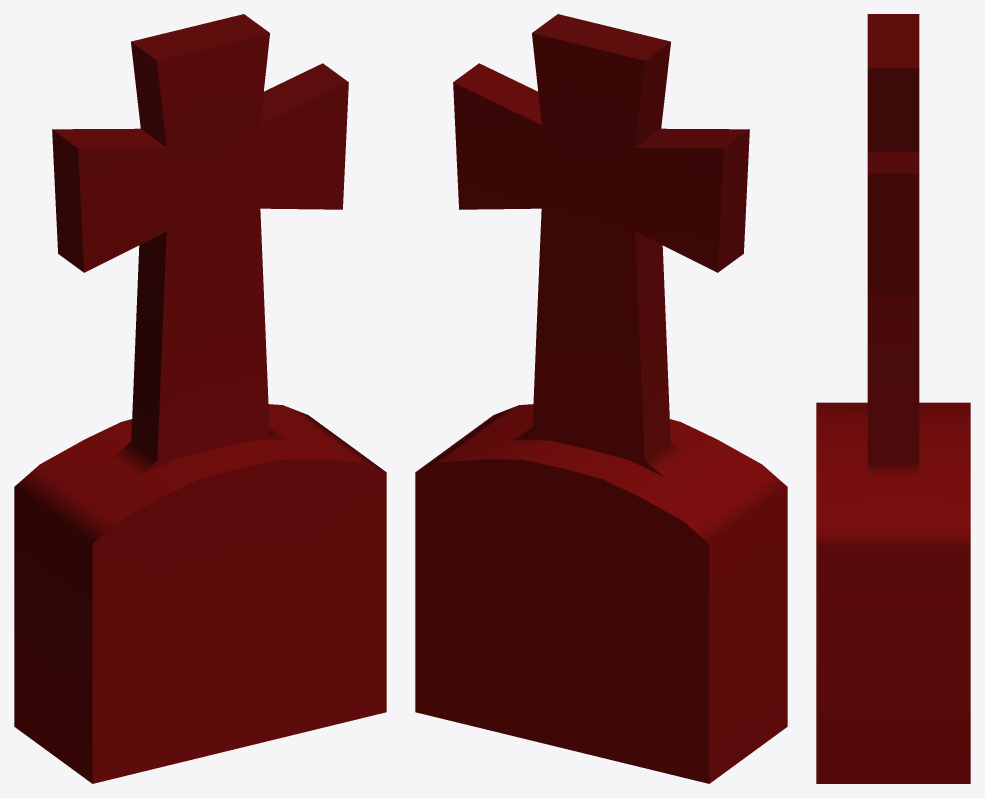
Rendered from geology-carvedstone-gravestone_v5.fbx.
3 views of the same model, side by side, from view 1: azimuth 30°, elevation 25°; view 2: azimuth 150°, elevation 25°; view 3: azimuth 270°, elevation 25° (orthographic).
Visible parts, largest first — view 1: Gravestone_v5; view 2: Gravestone_v5; view 3: Gravestone_v5.
Boxes of the visible parts, box(x1,y1,x2,y2) form: Gravestone_v5: box(14, 14, 386, 783); Gravestone_v5: box(415, 14, 787, 783); Gravestone_v5: box(816, 14, 970, 783).
Size of the model in its own units: 2.04 by 4.51 by 0.9383.
